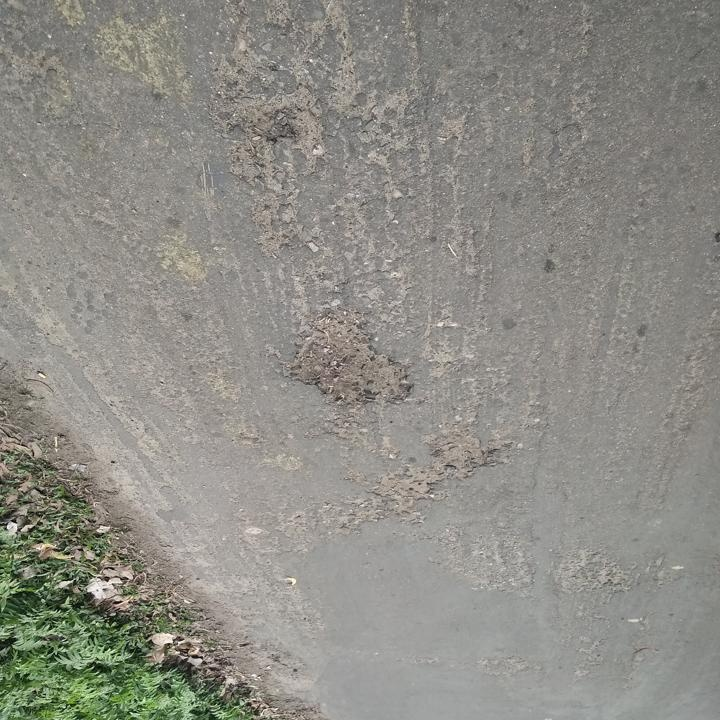pothole: (284, 313, 418, 417), (374, 431, 496, 518), (238, 100, 297, 144)
